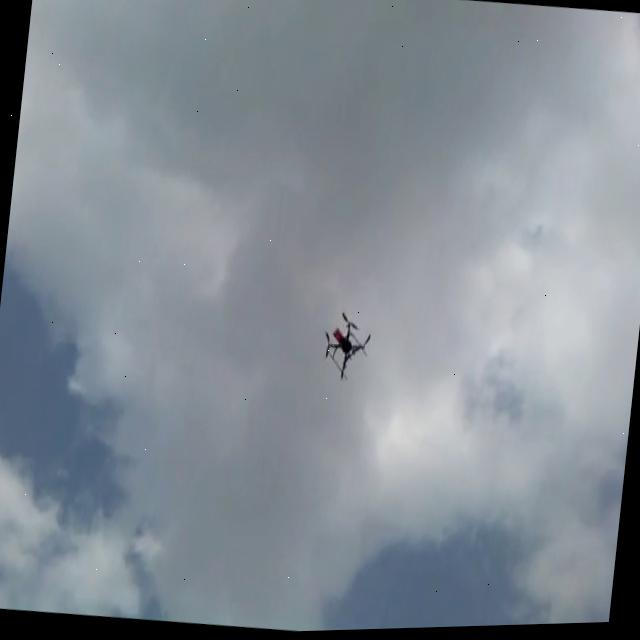drone: (316, 305, 374, 385)
